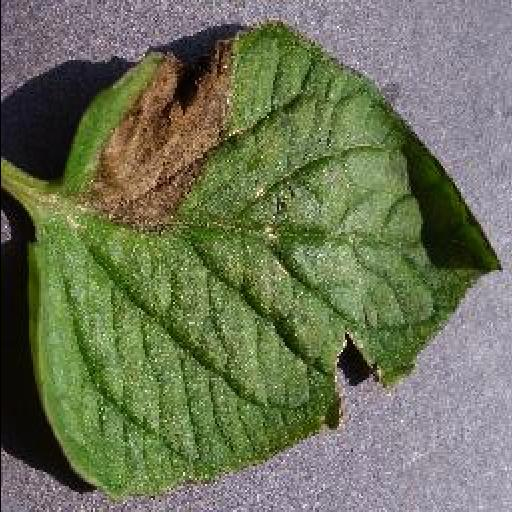disease_tomato: (18, 28, 502, 502)
